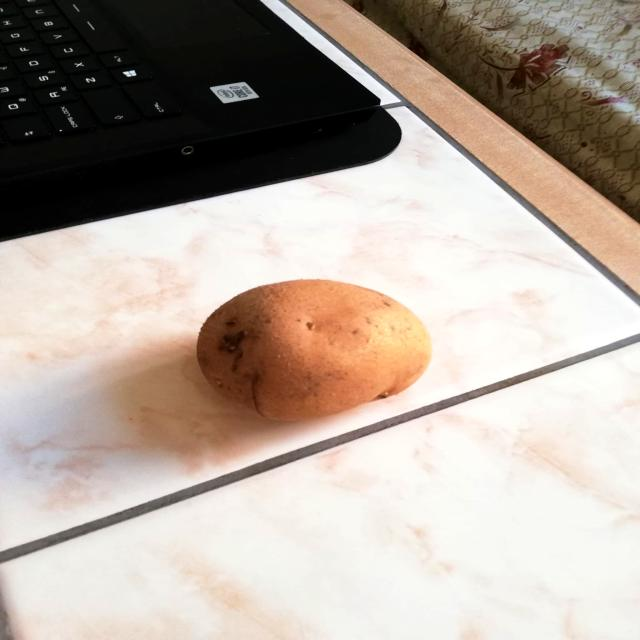potato: (185, 267, 442, 428)
